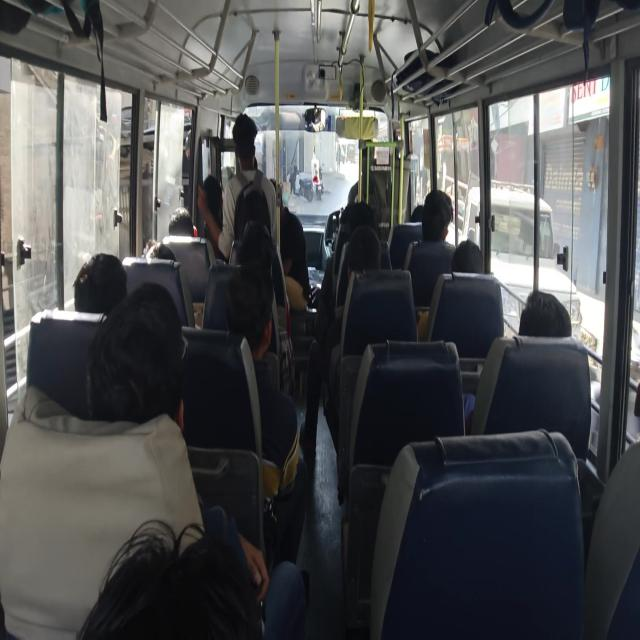person: (107, 509, 274, 640), (116, 291, 211, 434), (80, 252, 150, 346), (512, 278, 580, 374), (234, 102, 278, 192), (423, 171, 472, 244), (212, 272, 261, 332), (347, 221, 386, 294), (196, 178, 234, 235), (455, 246, 487, 312), (172, 218, 208, 272), (350, 192, 385, 246), (248, 218, 282, 258), (148, 236, 175, 285), (234, 248, 265, 287), (406, 198, 440, 231)
